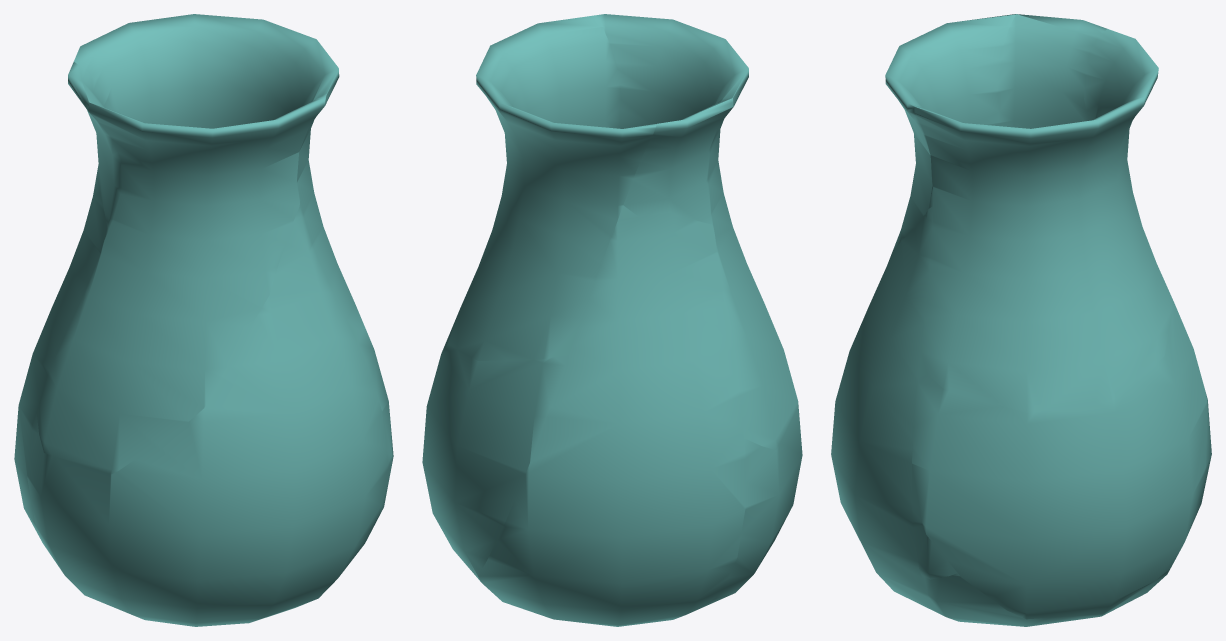
Rendered from ClayPot1_Broken_Mesh.fbx.
3 renders of one model, left to right at view 1: azimuth 30°, elevation 25°; view 2: azimuth 150°, elevation 25°; view 3: azimuth 270°, elevation 25°, orthographic.
Parts seen in each view (by area): view 1: shard2, shard6, shard1, shard3, shard7, shard5; view 2: shard3, shard1, shard6, shard5, shard7, shard2; view 3: shard1, shard5, shard2, shard6, shard7, shard3, shard4.
Part boxes in pixels (x1,y1,x2,y2): shard2: (27,200,388,626); shard6: (36,93,327,474); shard1: (74,14,364,331); shard3: (14,177,379,557); shard7: (68,62,121,229); shard5: (352,326,393,463); shard3: (476,212,745,626); shard1: (446,15,656,360); shard6: (595,14,798,449); shard5: (422,343,569,576); shard7: (618,98,732,224); shard2: (711,406,802,603); shard1: (915,29,1173,412); shard5: (912,301,1206,619); shard2: (831,206,939,613); shard6: (885,14,1015,249); shard7: (997,14,1106,128); shard3: (921,392,1211,626); shard4: (912,466,957,579).
Bounding box in the file's own units: 1.21 × 1.8 × 1.2.
